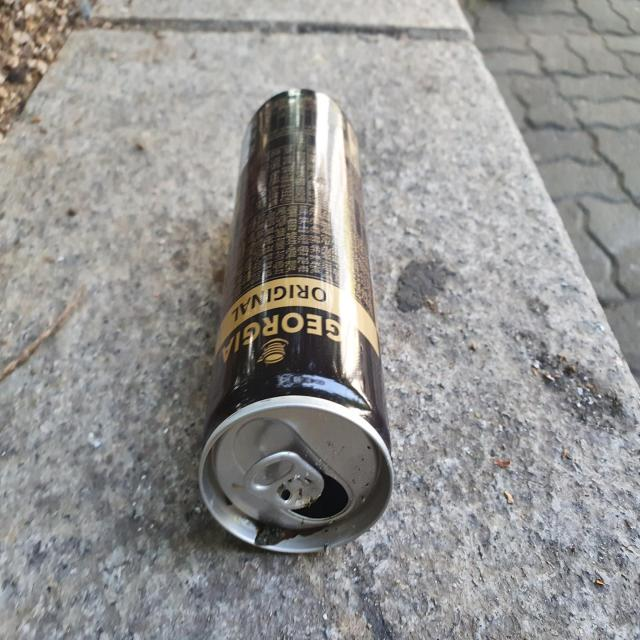can: (199, 88, 393, 554)
